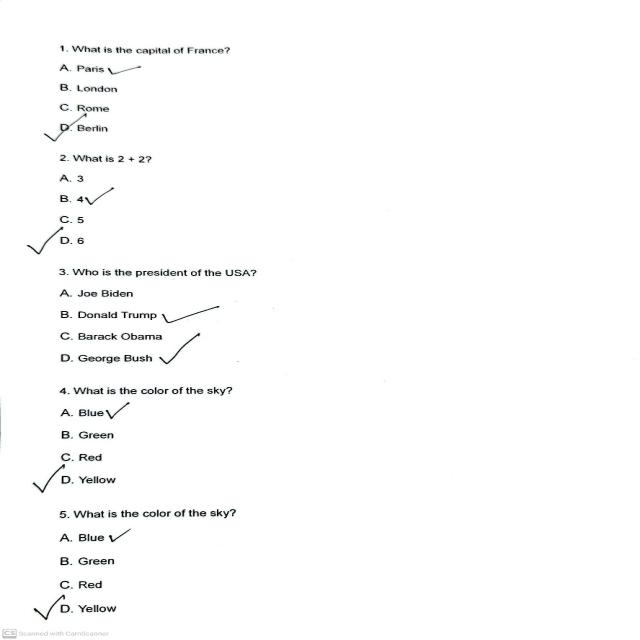Student_Ticked: (160, 298, 223, 323), (159, 332, 205, 362), (41, 113, 84, 140), (35, 592, 68, 620), (30, 229, 63, 254), (108, 61, 150, 80), (38, 464, 66, 492), (106, 401, 143, 421), (106, 523, 135, 545), (88, 186, 113, 207)
